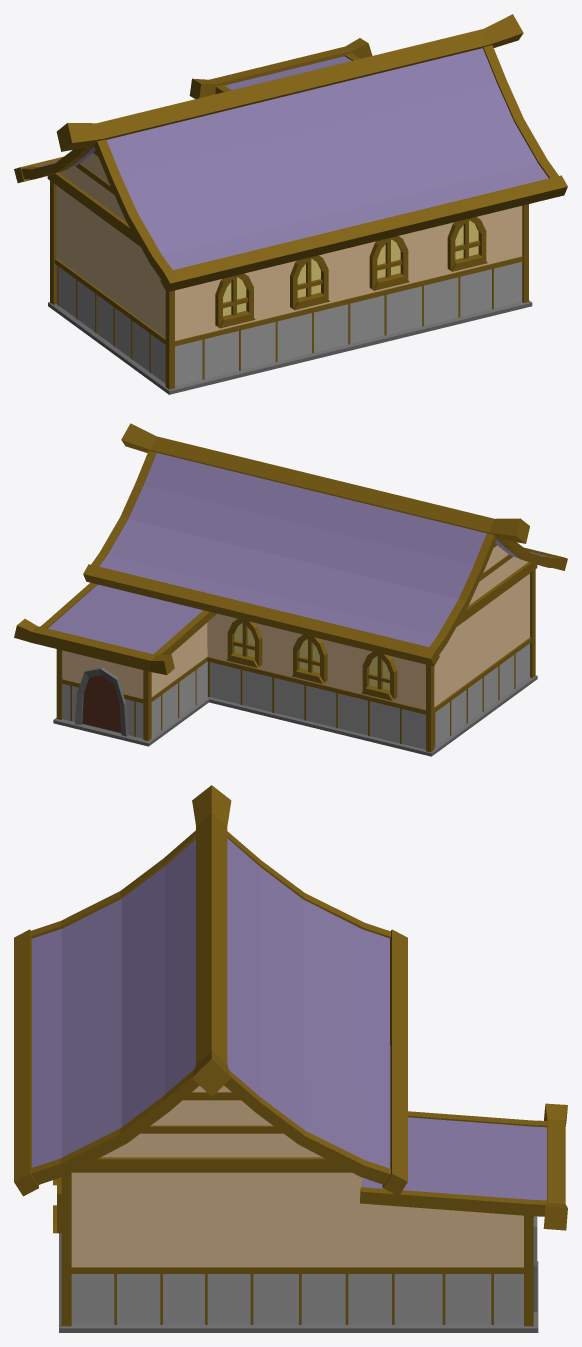
File: TownHall.fbx
The picture shows the model from 3 angles, top to bottom: view 1: azimuth 30°, elevation 25°; view 2: azimuth 150°, elevation 25°; view 3: azimuth 270°, elevation 25°; orthographic projection. The views are drawn at different scales.
Visible parts, largest first — view 1: Cube.038, Cube.035, Cube.036, Cube.043, Cube.040, Cube.034, Cube.042, Cube.062, Cube.049, Cube.056, Cube.055, Cube.054 (+7 smaller); view 2: Cube.038, Cube.035, Cube.036, Cube.043, Cube.039, Cube.037, Cube.034, Cube.049, Cylinder.000, Cube.062, Cube.042, Cube.050 (+10 smaller); view 3: Cube.038, Cube.035, Cube.036, Cube.037, Cube.043, Cube.041, Cube.040, Cube.039, Cube.034, Cube.044, Cube.062, Cube.048 (+6 smaller).
Boxes of the visible parts, left/top/right/bottom form: Cube.038: left=36, top=48, right=548, bottom=269; Cube.035: left=56, top=153, right=522, bottom=340; Cube.036: left=56, top=262, right=522, bottom=386; Cube.043: left=56, top=14, right=523, bottom=151; Cube.040: left=160, top=175, right=567, bottom=292; Cube.034: left=48, top=300, right=532, bottom=394; Cube.042: left=21, top=139, right=172, bottom=278; Cube.062: left=54, top=256, right=522, bottom=346; Cube.049: left=189, top=38, right=372, bottom=98; Cube.056: left=447, top=217, right=487, bottom=271; Cube.055: left=369, top=236, right=409, bottom=290; Cube.054: left=290, top=255, right=329, bottom=310; Cube.038: left=99, top=453, right=546, bottom=646; Cube.035: left=62, top=545, right=529, bottom=709; Cube.036: left=62, top=643, right=529, bottom=749; Cube.043: left=121, top=423, right=529, bottom=543; Cube.039: left=83, top=564, right=439, bottom=666; Cube.037: left=48, top=584, right=202, bottom=654; Cube.034: left=53, top=675, right=537, bottom=756; Cube.049: left=14, top=619, right=174, bottom=674; Cylinder.000: left=75, top=667, right=128, bottom=736; Cube.062: left=62, top=637, right=531, bottom=714; Cube.042: left=429, top=533, right=561, bottom=654; Cube.050: left=361, top=651, right=397, bottom=700; Cube.038: left=32, top=838, right=390, bottom=1168; Cube.035: left=71, top=1085, right=523, bottom=1267; Cube.036: left=71, top=1274, right=523, bottom=1324; Cube.037: left=362, top=1117, right=546, bottom=1200; Cube.043: left=192, top=785, right=231, bottom=1096; Cube.041: left=30, top=1069, right=390, bottom=1184; Cube.040: left=14, top=929, right=38, bottom=1196; Cube.039: left=382, top=929, right=407, bottom=1196; Cube.034: left=59, top=1233, right=538, bottom=1332; Cube.044: left=72, top=1157, right=351, bottom=1172; Cube.062: left=71, top=1267, right=523, bottom=1273; Cube.048: left=360, top=1187, right=546, bottom=1216.
Bounding box in the file's own units: 252 × 125 × 210.
